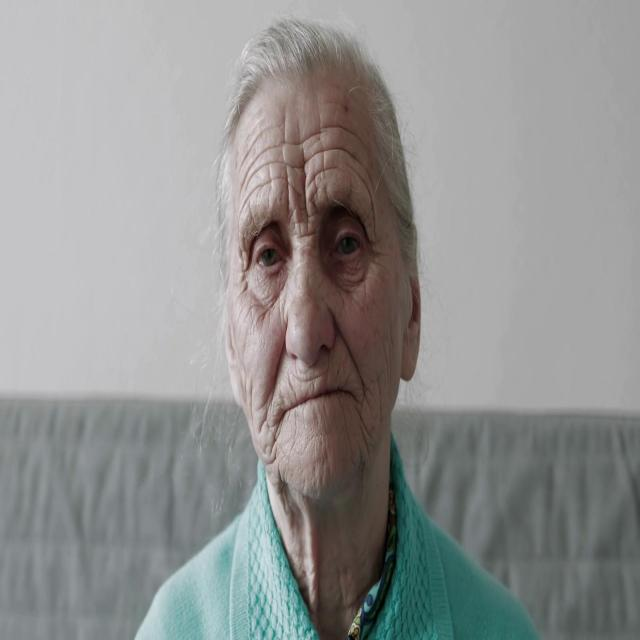Wrinkles: (237, 136, 376, 268), (239, 97, 369, 195), (344, 158, 376, 239), (237, 123, 283, 178), (308, 166, 353, 203), (236, 294, 275, 330), (339, 397, 355, 466), (380, 290, 394, 366), (255, 386, 272, 433), (251, 277, 286, 297), (377, 373, 389, 422), (372, 259, 394, 284), (356, 405, 372, 439), (288, 203, 305, 234), (238, 358, 247, 406), (358, 423, 370, 458), (361, 383, 375, 413), (297, 221, 320, 239), (256, 306, 272, 331), (270, 421, 279, 454), (250, 376, 254, 427), (322, 100, 344, 109), (383, 343, 388, 379)
